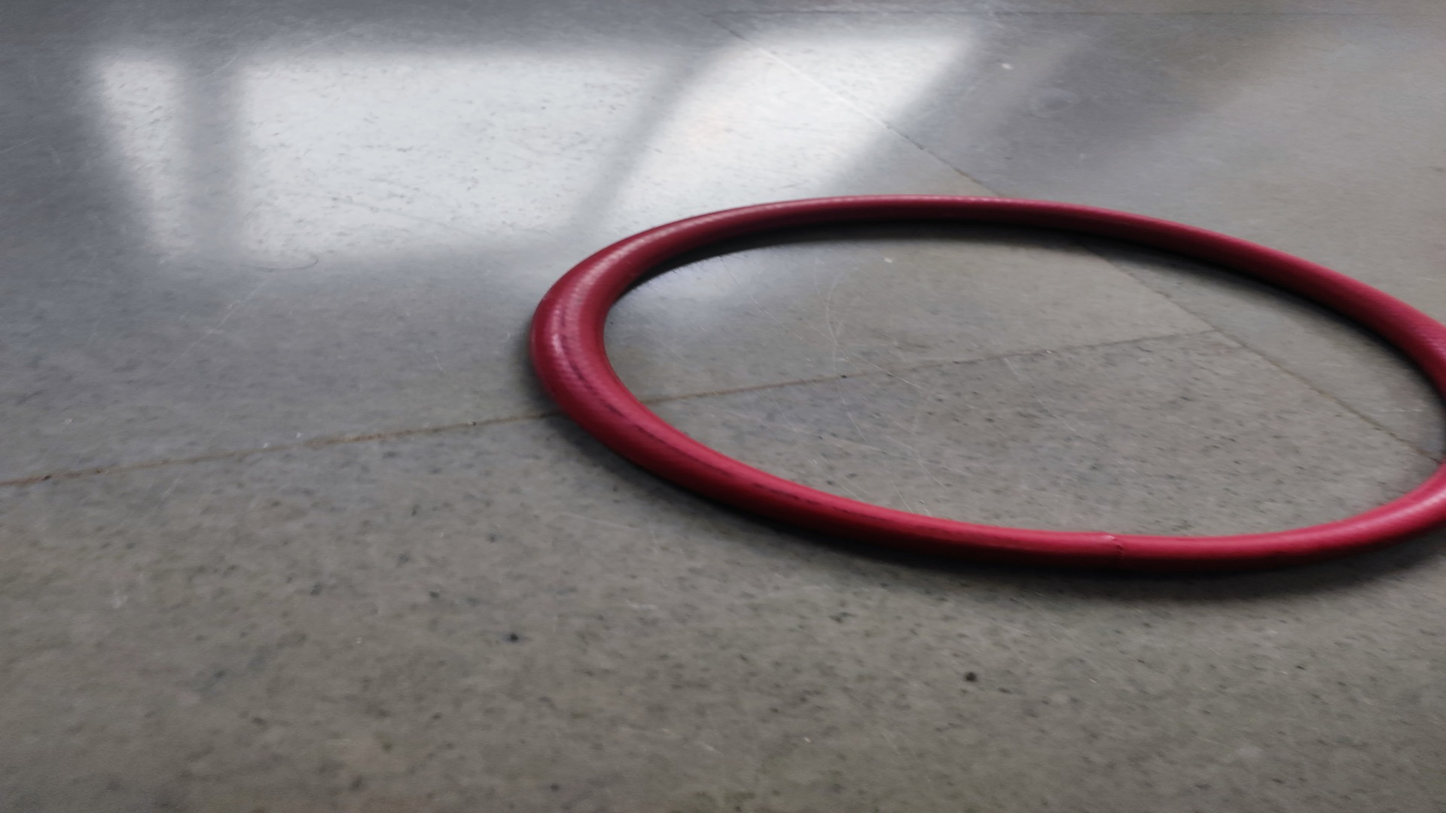Red ring: (529, 195, 1446, 576)
